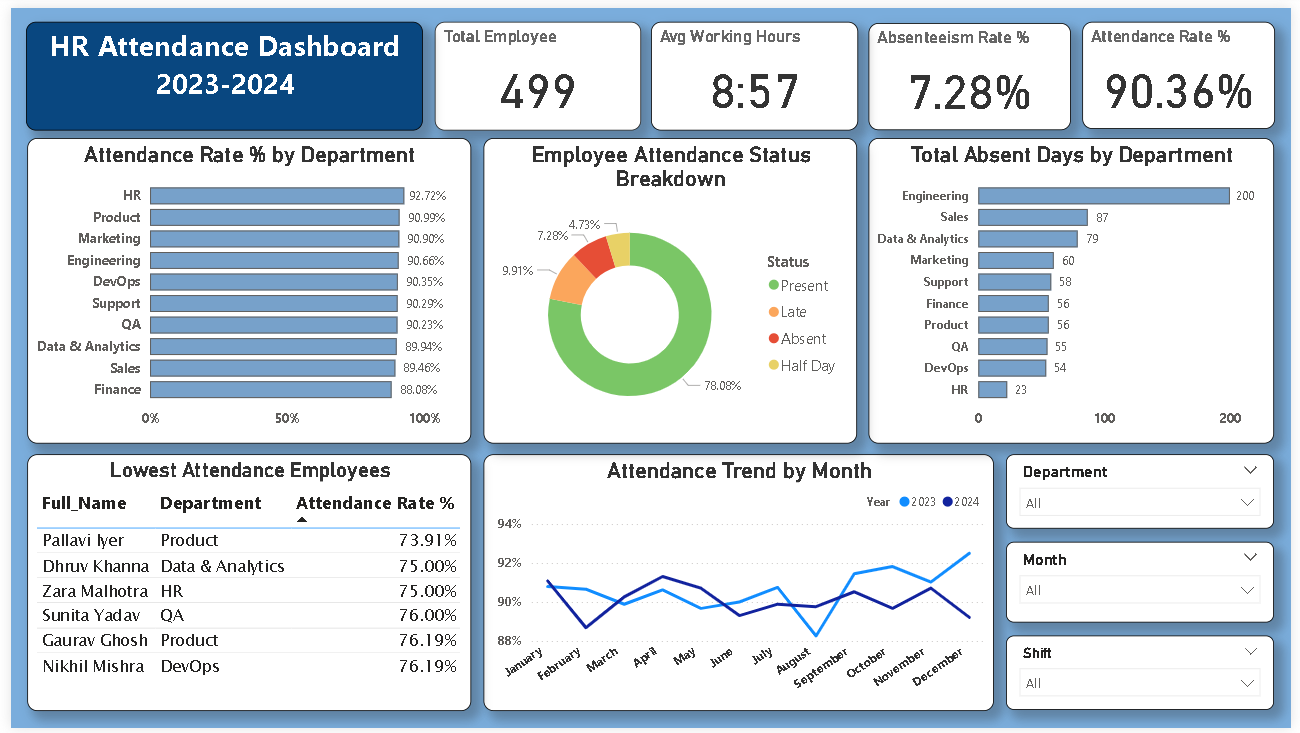

Layout of this report page (visuals, bound fields, positions):
{"tool":"powerbi","page":{"name":"HR Attendance  Dashboard","canvas":[1280,720],"ordinal":0},"visuals":[{"type":"card","title":"Total Employee","fields":{"Values":["Count(Employee Master.Employee_ID)"]},"box":[423.5,13.3,206.3,108.6],"z":0},{"type":"card","title":"Absenteeism Rate %","fields":{"Values":["Attendance Log.Absenteesm Rate %"]},"box":[857.8,14.5,202.7,107.4],"z":1000},{"type":"card","title":"Attendance Rate %","fields":{"Values":["Attendance Log.abcd"]},"box":[1071.2,13.8,192.5,107.5],"z":2000},{"type":"lineChart","title":"Attendance Trend by Month","fields":{"Category":["Attendance Log.Month.Variation.Date Hierarchy.Year","Attendance Log.Month.Variation.Date Hierarchy.Quarter","Attendance Log.Month.Variation.Date Hierarchy.Month","Attendance Log.Month.Variation.Date Hierarchy.Day"],"Y":["Attendance Log.Attendance Rate %"],"Series":["Attendance Log.Year"]},"box":[472.9,446.4,510.3,257],"z":3000},{"type":"card","title":"Avg Working Hours","fields":{"Values":["Attendance Log.Avg Working Hrs2"]},"box":[639.4,13.3,207.5,108.6],"z":4000},{"type":"textbox","title":"HR Attendance Dashboard 2023-2024","box":[14.5,13.3,396.9,108.6],"z":5000},{"type":"barChart","fields":{"Category":["Employee Master.Department","Employee Master.Full_Name"],"Y":["Attendance Log.Total Absent Days"]},"box":[857.8,130.3,405.4,305.2],"z":6000},{"type":"barChart","title":"Attendance Rate % by Department","fields":{"Y":["Attendance Log.Attendance Rate %"],"Category":["Employee Master.Department"]},"box":[15.7,130.3,444,305.2],"z":7000},{"type":"donutChart","title":"Employee Attendance Status Breakdown","fields":{"Category":["Attendance Log.Attendance_Status"],"Y":["CountNonNull(Attendance Log.Employee_ID)"]},"box":[472.9,130.3,374,305.2],"z":8000},{"type":"tableEx","title":"Lowest Attendance Employees","fields":{"Values":["Employee Master.Full_Name","Employee Master.Department","Attendance Log.Attendance Rate %"]},"box":[15.7,446.4,444,257],"z":9000},{"type":"slicer","title":"Department","fields":{"Values":["Employee Master.Department"]},"box":[995.3,446.4,267.8,74.8],"z":10000},{"type":"slicer","title":"Month","fields":{"Values":["Attendance Log.Month"]},"box":[995.3,533.2,267.8,80.8],"z":11000},{"type":"slicer","fields":{"Values":["Attendance Log.Shift"]},"box":[995.3,627.3,267.8,74.8],"z":12000}]}

Visuals, with their boxes in screenshot pixels (x1, y1, x2, y2), scaled from the page's 1280x720 canvas onto the 1300x733 screenshot:
"Total Employee" card: <region>430, 14, 640, 124</region>
"Absenteeism Rate %" card: <region>871, 15, 1077, 124</region>
"Attendance Rate %" card: <region>1088, 14, 1283, 123</region>
"Attendance Trend by Month" lineChart: <region>480, 454, 999, 716</region>
"Avg Working Hours" card: <region>649, 14, 860, 124</region>
"HR Attendance Dashboard 2023-2024" textbox: <region>15, 14, 418, 124</region>
barChart - Employee Master.Department x Employee Master.Full_Name: <region>871, 133, 1283, 443</region>
"Attendance Rate % by Department" barChart: <region>16, 133, 467, 443</region>
"Employee Attendance Status Breakdown" donutChart: <region>480, 133, 860, 443</region>
"Lowest Attendance Employees" tableEx: <region>16, 454, 467, 716</region>
"Department" slicer: <region>1011, 454, 1283, 531</region>
"Month" slicer: <region>1011, 543, 1283, 625</region>
slicer - Attendance Log.Shift: <region>1011, 639, 1283, 715</region>
